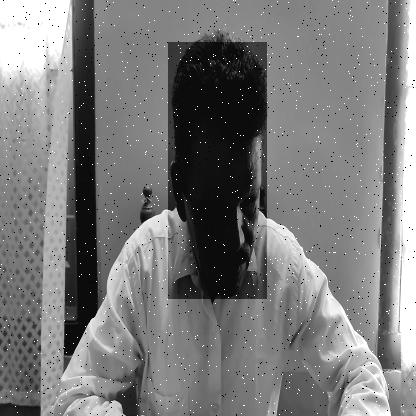Distracted: (168, 42, 267, 299)
